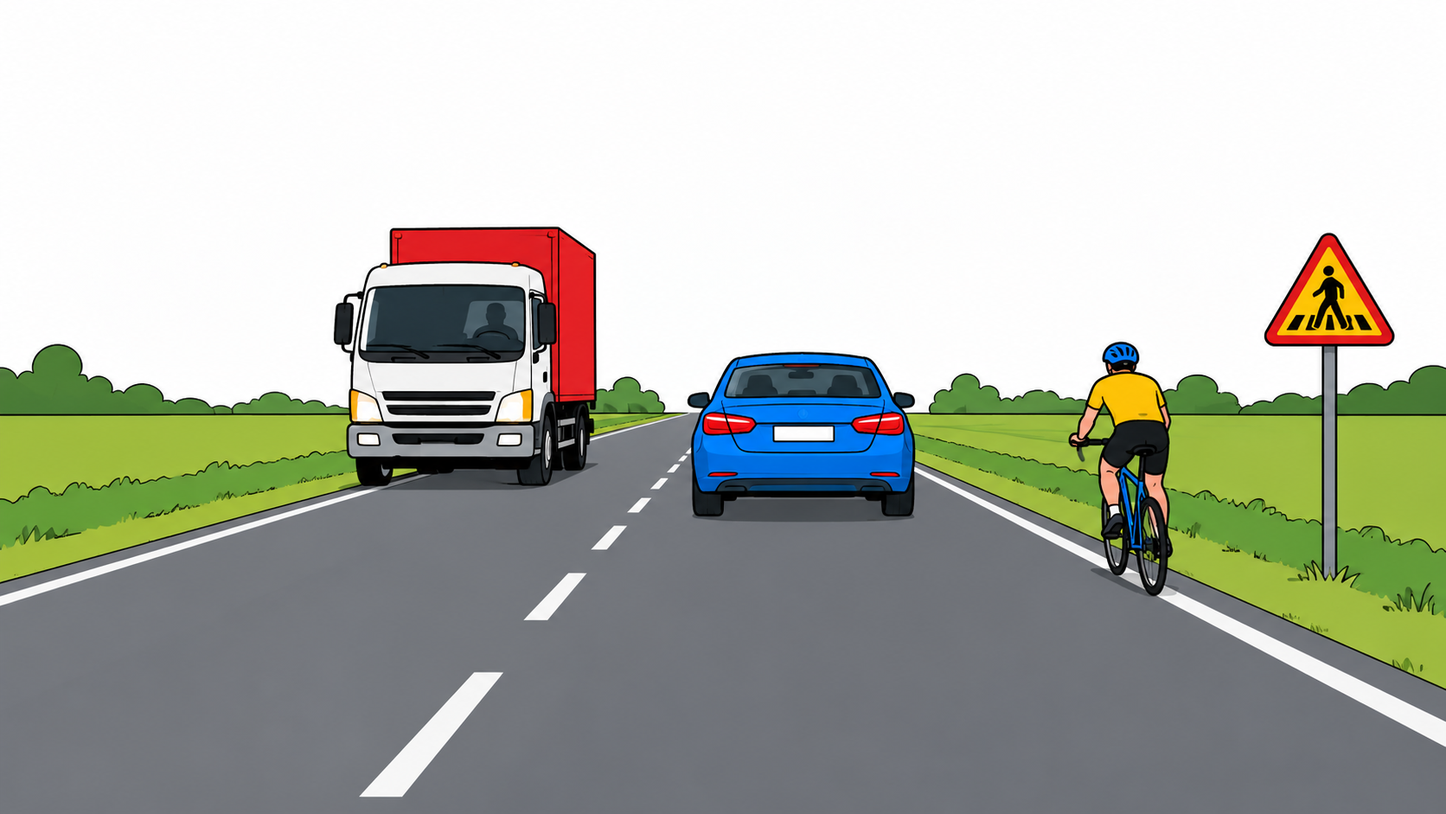bicycle: (1052, 427, 1178, 593)
car: (667, 358, 826, 476)
crossing_warning_sign: (141, 215, 293, 374)
person: (1057, 316, 1173, 561)
truck: (330, 226, 600, 490)
